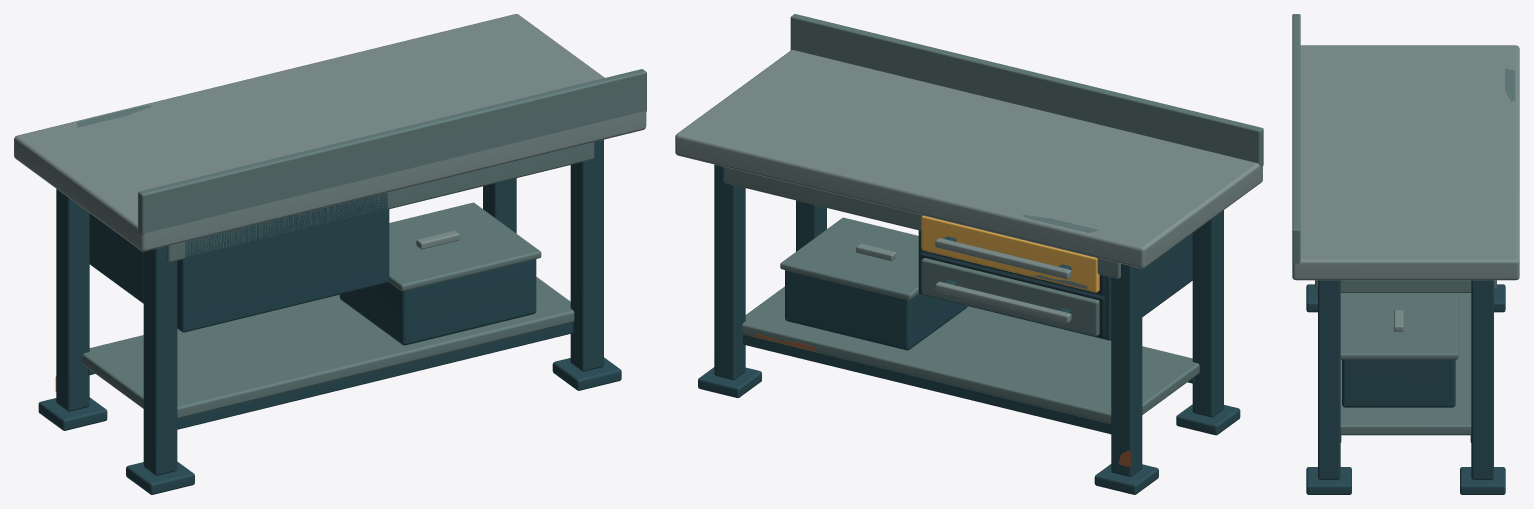
Rendered from d08_repair_furniture_04.glb.
3 views of the same model, side by side, from view 1: azimuth 30°, elevation 25°; view 2: azimuth 150°, elevation 25°; view 3: azimuth 270°, elevation 25° (orthographic). The views are drawn at different scales.
Visible parts, largest first — view 1: D08RepairFurniture04_Mesh; view 2: D08RepairFurniture04_Mesh; view 3: D08RepairFurniture04_Mesh.
Part boxes in pixels (left/top/right/bottom): D08RepairFurniture04_Mesh: left=14, top=14, right=646, bottom=494; D08RepairFurniture04_Mesh: left=675, top=14, right=1263, bottom=494; D08RepairFurniture04_Mesh: left=1292, top=14, right=1519, bottom=494.
Size of the model in its own units: 1.8 by 1.06 by 0.8.
